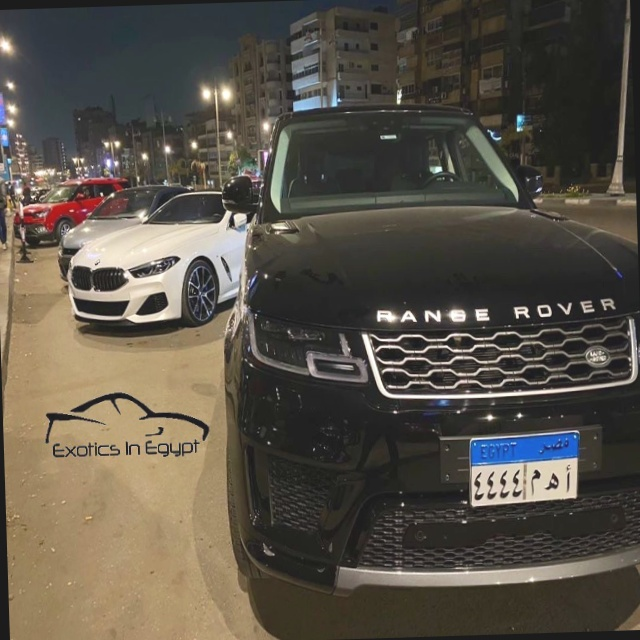License Plate: (466, 428, 583, 510)
